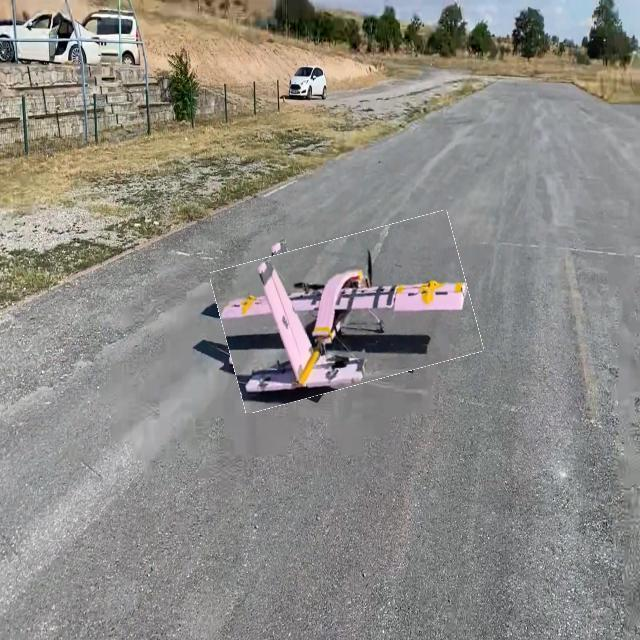UAV: (189, 204, 466, 428)
